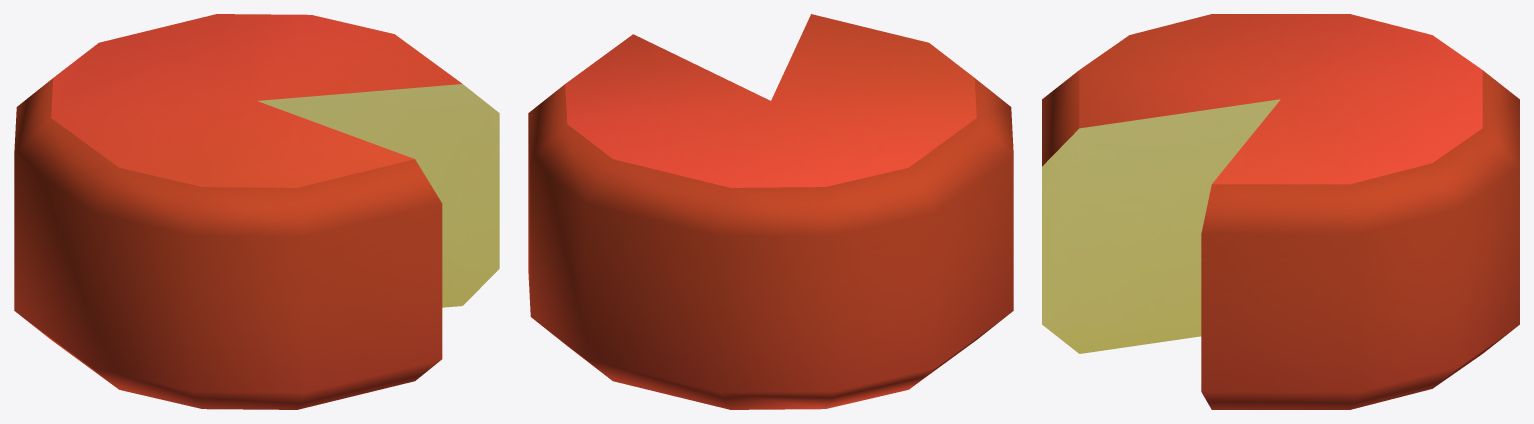
The model's file is cheese_wheel_red.fbx.
3 renders of one model, left to right at view 1: azimuth 30°, elevation 25°; view 2: azimuth 150°, elevation 25°; view 3: azimuth 270°, elevation 25°, orthographic.
Visible parts, largest first — view 1: cheese_wheel_red; view 2: cheese_wheel_red; view 3: cheese_wheel_red.
Part boxes in pixels (x1,y1,x2,y2): cheese_wheel_red: (14, 14, 499, 409); cheese_wheel_red: (528, 14, 1013, 409); cheese_wheel_red: (1042, 14, 1519, 409).
Size of the model in its own units: 33.93 by 17.68 by 33.93.
